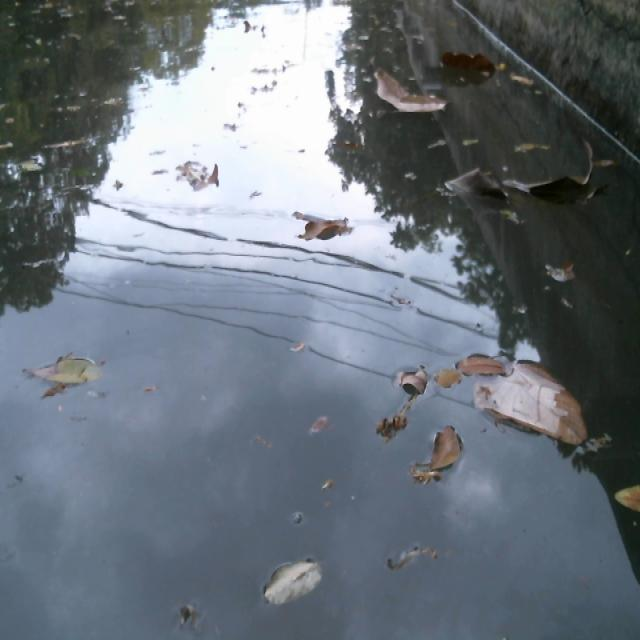Big-leaf: (474, 357, 593, 450), (500, 150, 602, 211), (366, 66, 452, 118), (441, 164, 510, 213), (434, 48, 498, 84)
Small-leaf: (255, 554, 332, 610), (19, 350, 106, 390), (287, 210, 362, 244), (425, 422, 463, 474), (174, 158, 223, 195), (380, 538, 432, 568), (453, 349, 510, 376), (394, 356, 429, 398), (605, 476, 640, 515), (543, 267, 584, 289), (304, 411, 335, 437), (285, 329, 308, 358), (314, 478, 335, 493)
